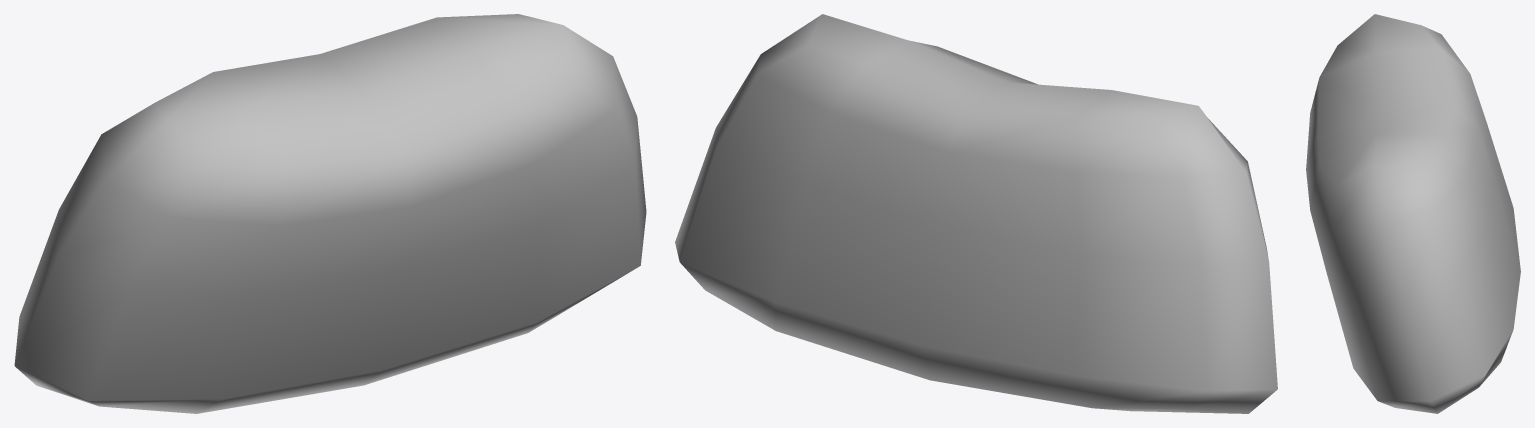
File: Mustache_White_006.glb
The picture shows the model from 3 angles, left to right: view 1: azimuth 30°, elevation 25°; view 2: azimuth 150°, elevation 25°; view 3: azimuth 270°, elevation 25°; orthographic projection. The views are drawn at different scales.
Visible parts, largest first — view 1: Mustache_White_006; view 2: Mustache_White_006; view 3: Mustache_White_006.
Boxes of the visible parts, x1,y1,x2,y2 form: Mustache_White_006: [14, 14, 646, 413]; Mustache_White_006: [675, 14, 1277, 413]; Mustache_White_006: [1306, 14, 1520, 413].
Size of the model in its own units: 0.1398 by 0.0664 by 0.0524.
1 material, 1 textured.
